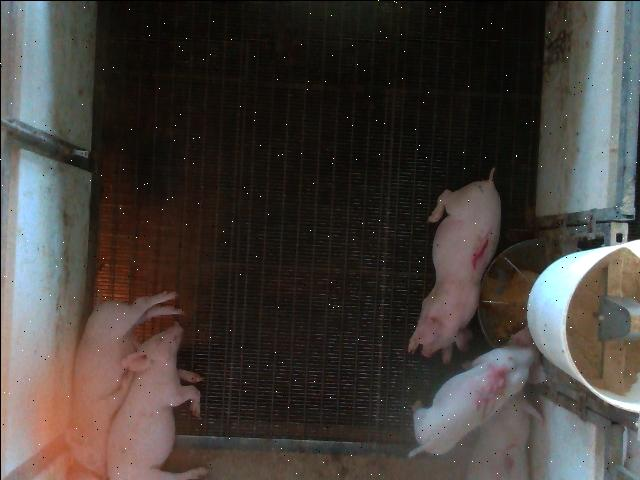pig-1: (408, 168, 500, 362)
pig-3: (466, 391, 539, 478)
pig-5: (409, 326, 544, 454)
